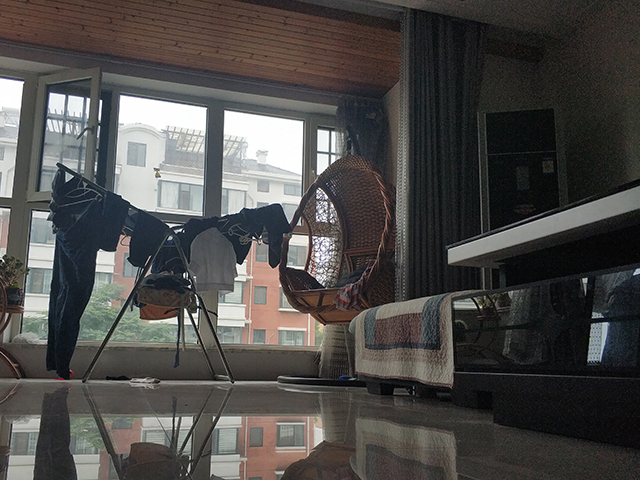curtain: (395, 3, 485, 301)
sofa: (344, 178, 640, 452)
